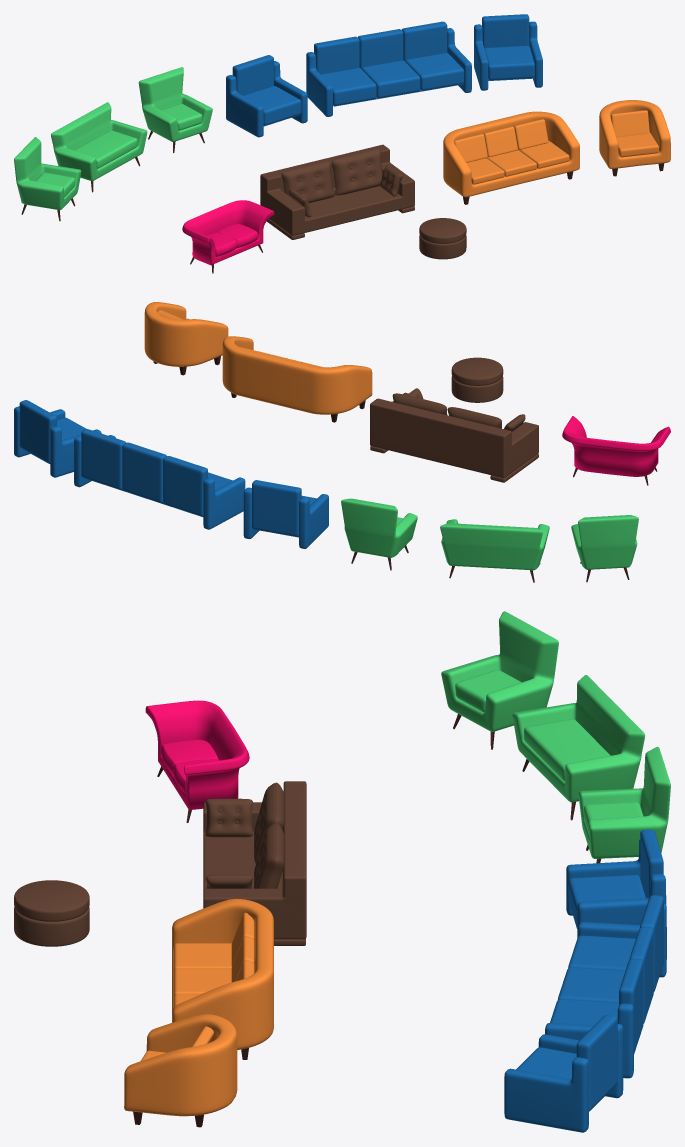
Rendered from sofa_furniture.gltf.
The picture shows the model from 3 angles, top to bottom: view 1: azimuth 30°, elevation 25°; view 2: azimuth 150°, elevation 25°; view 3: azimuth 270°, elevation 25°; orthographic projection. The views are drawn at different scales.
Parts seen in each view (by area): view 1: Sofa4, Sofa2, Sofa3, Sofa1, Chair4_1.001, Chair3_1, Chair4_1, Sofa5, Chair1_1.001, Chair1_1, puf; view 2: Sofa2, Sofa4, Sofa3, Sofa1, Chair3_1, Chair4_1.001, Chair4_1, Sofa5, Chair1_1.001, Chair1_1, puf; view 3: Sofa2, Sofa3, Sofa4, Sofa1, Chair3_1, Chair4_1, Chair1_1, Sofa5, Chair1_1.001, Chair4_1.001, puf.
Boxes of the visible parts, x1=… form: Sofa4: x1=306, y1=21, x2=471, y2=116; Sofa2: x1=260, y1=144, x2=414, y2=239; Sofa3: x1=443, y1=111, x2=579, y2=204; Sofa1: x1=51, y1=102, x2=147, y2=192; Chair4_1.001: x1=226, y1=55, x2=307, y2=137; Chair3_1: x1=599, y1=100, x2=670, y2=176; Chair4_1: x1=474, y1=14, x2=542, y2=90; Sofa5: x1=182, y1=200, x2=274, y2=273; Chair1_1.001: x1=138, y1=67, x2=212, y2=152; Chair1_1: x1=14, y1=137, x2=81, y2=221; puf: x1=419, y1=218, x2=466, y2=259; Sofa2: x1=370, y1=388, x2=538, y2=482; Sofa4: x1=74, y1=429, x2=245, y2=529; Sofa3: x1=222, y1=336, x2=372, y2=422; Sofa1: x1=440, y1=519, x2=549, y2=582; Chair3_1: x1=144, y1=302, x2=228, y2=375; Chair4_1.001: x1=243, y1=480, x2=328, y2=548; Chair4_1: x1=14, y1=400, x2=101, y2=477; Sofa5: x1=562, y1=416, x2=670, y2=485; Chair1_1.001: x1=341, y1=498, x2=417, y2=570; Chair1_1: x1=571, y1=515, x2=638, y2=582; puf: x1=451, y1=357, x2=503, y2=402; Sofa2: x1=203, y1=781, x2=306, y2=945; Sofa3: x1=172, y1=898, x2=273, y2=1059; Sofa4: x1=545, y1=895, x2=666, y2=1078; Sofa1: x1=512, y1=675, x2=645, y2=820; Chair3_1: x1=124, y1=1014, x2=237, y2=1127; Chair4_1: x1=504, y1=1015, x2=623, y2=1132; Chair1_1: x1=441, y1=611, x2=558, y2=749; Sofa5: x1=145, y1=700, x2=249, y2=822; Chair1_1.001: x1=578, y1=746, x2=670, y2=863; Chair4_1.001: x1=566, y1=829, x2=666, y2=937; puf: x1=14, y1=880, x2=89, y2=946.
Bounding box in the file's own units: 4.46 × 0.4636 × 2.89.
